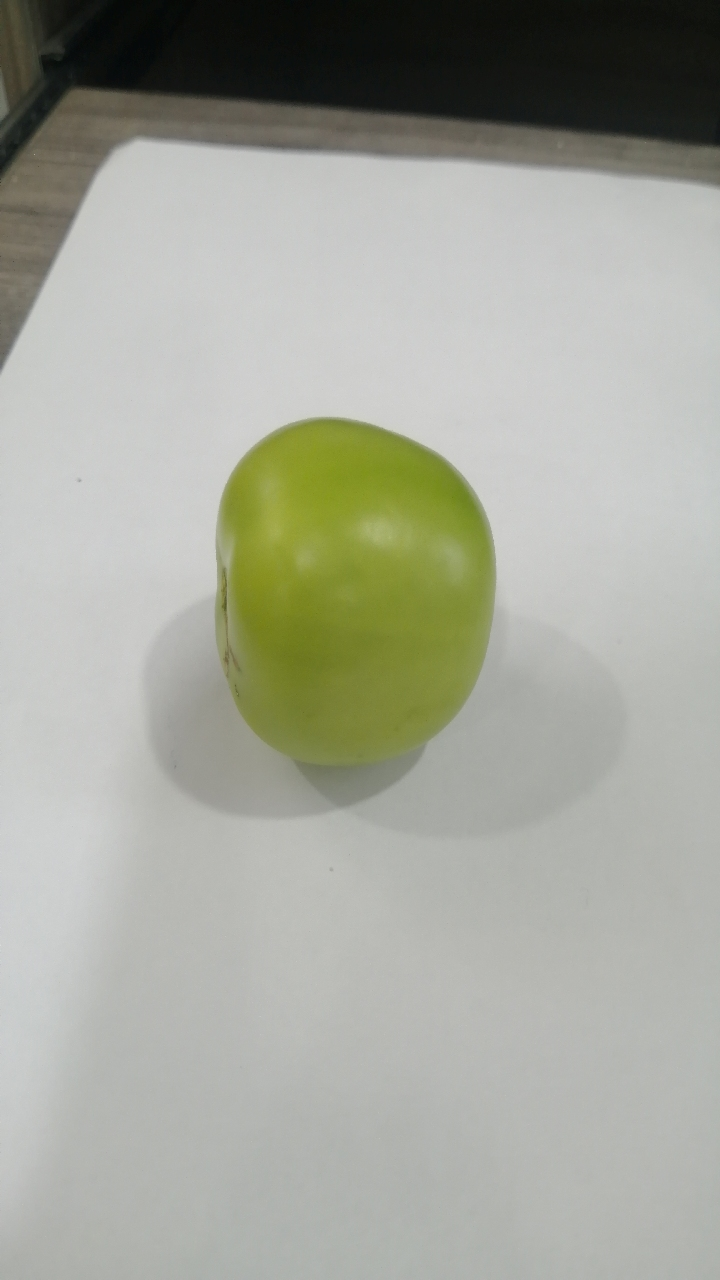tomateVerde: (184, 397, 548, 786)
